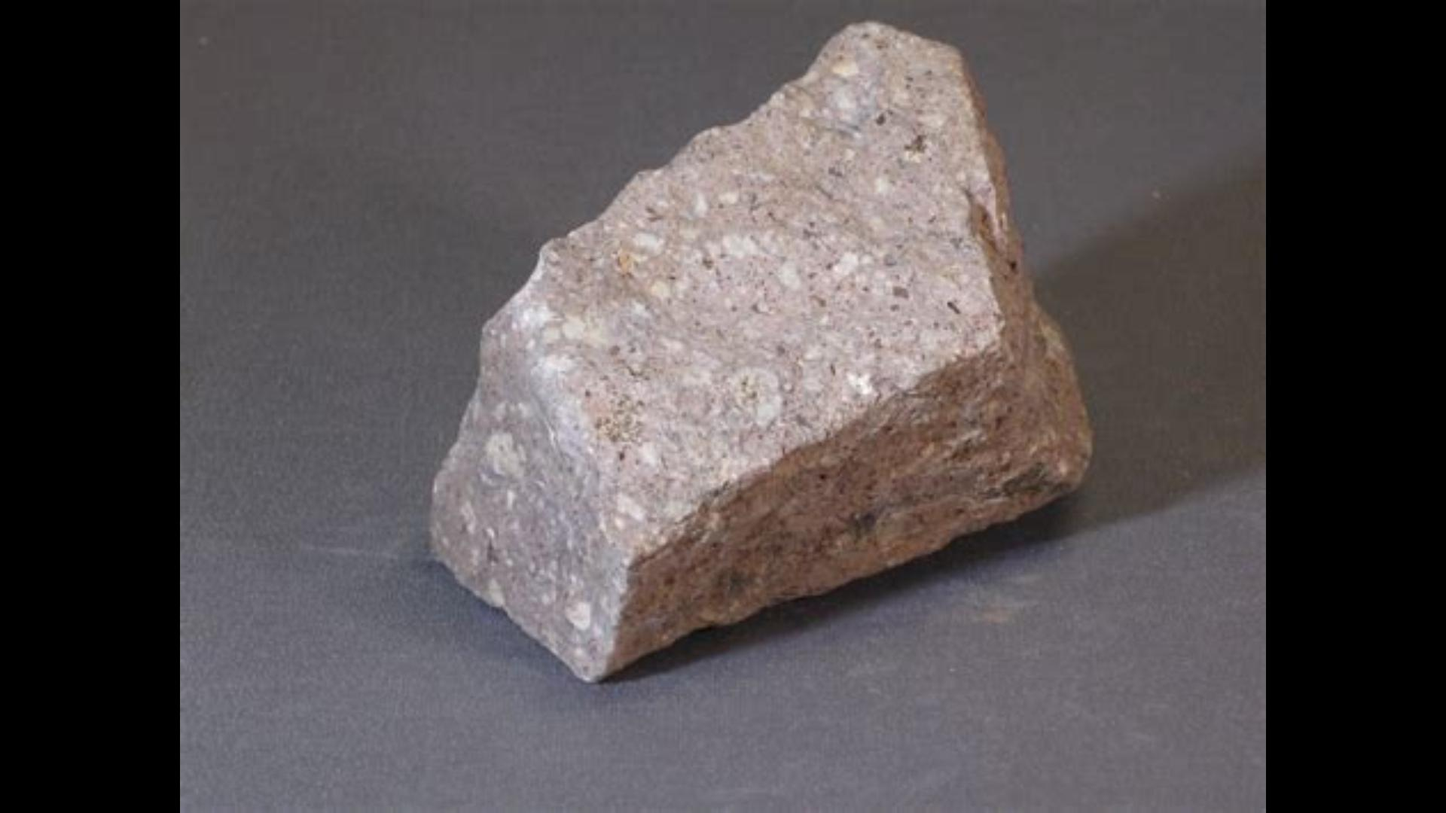rock: (432, 27, 1087, 673)
